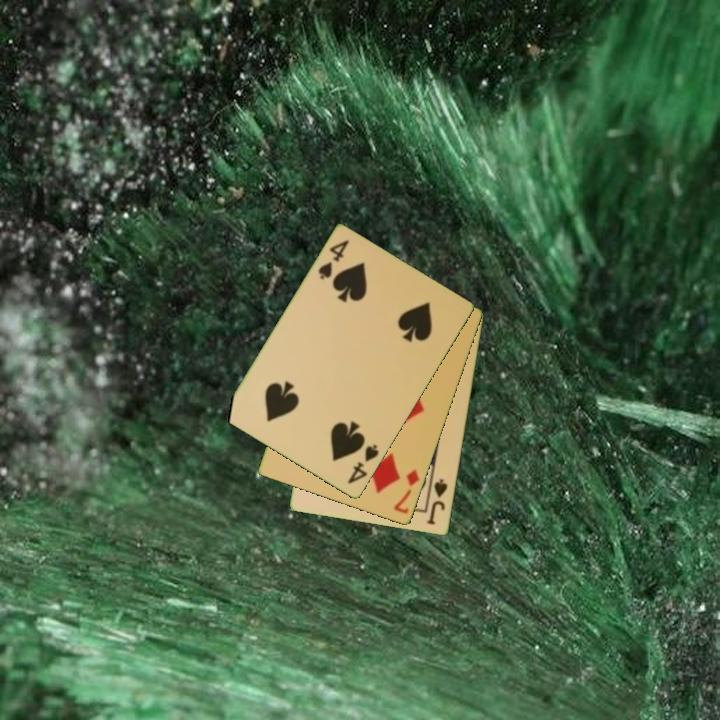4s: (344, 441, 382, 487), (315, 236, 352, 283)
7d: (390, 466, 423, 517)
Js: (424, 476, 451, 528)
